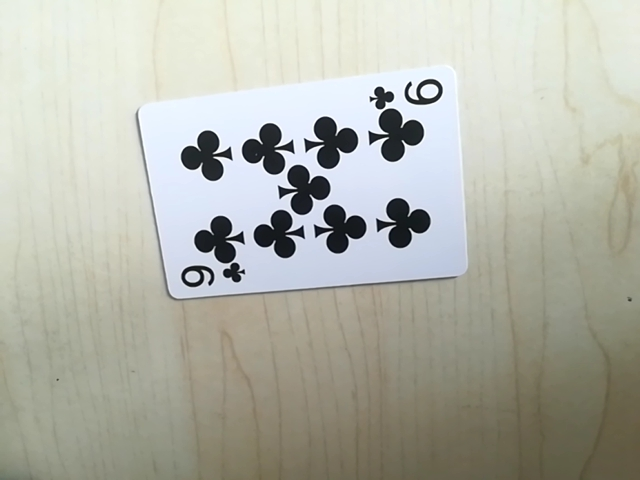mh 9: (368, 75, 449, 112), (174, 260, 246, 295)
